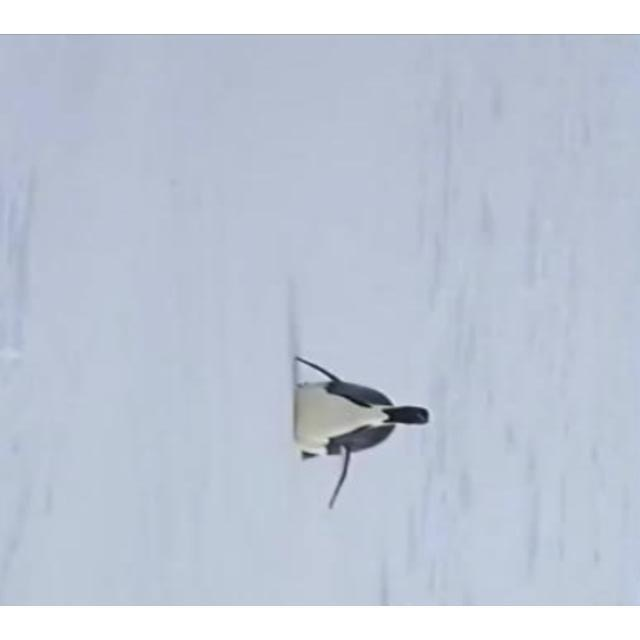penguin: (293, 357, 428, 511)
